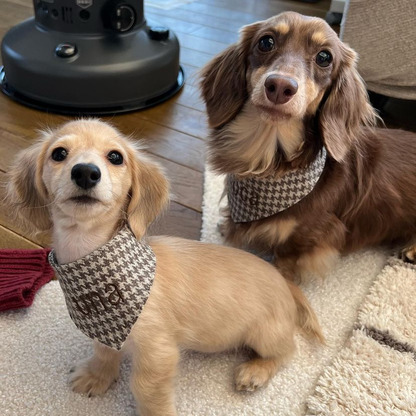dachshund: (184, 17, 404, 263), (29, 117, 205, 397)
